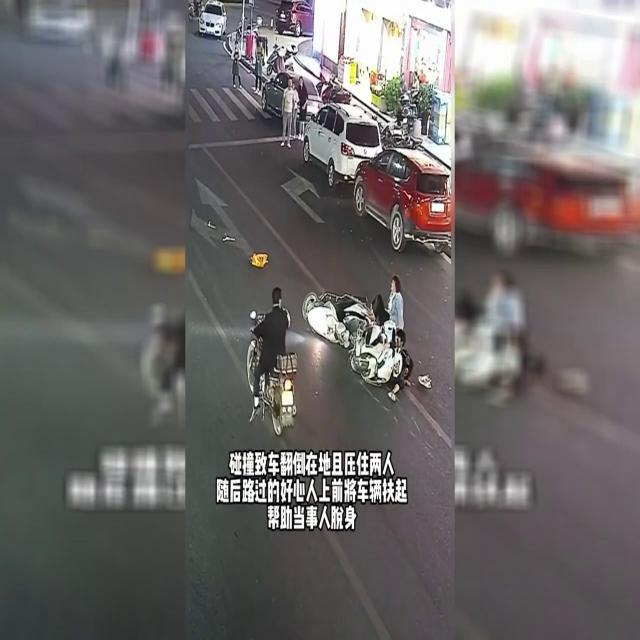multiple_accident: (295, 225, 452, 420)
normal: (338, 123, 482, 253), (220, 265, 297, 457)
